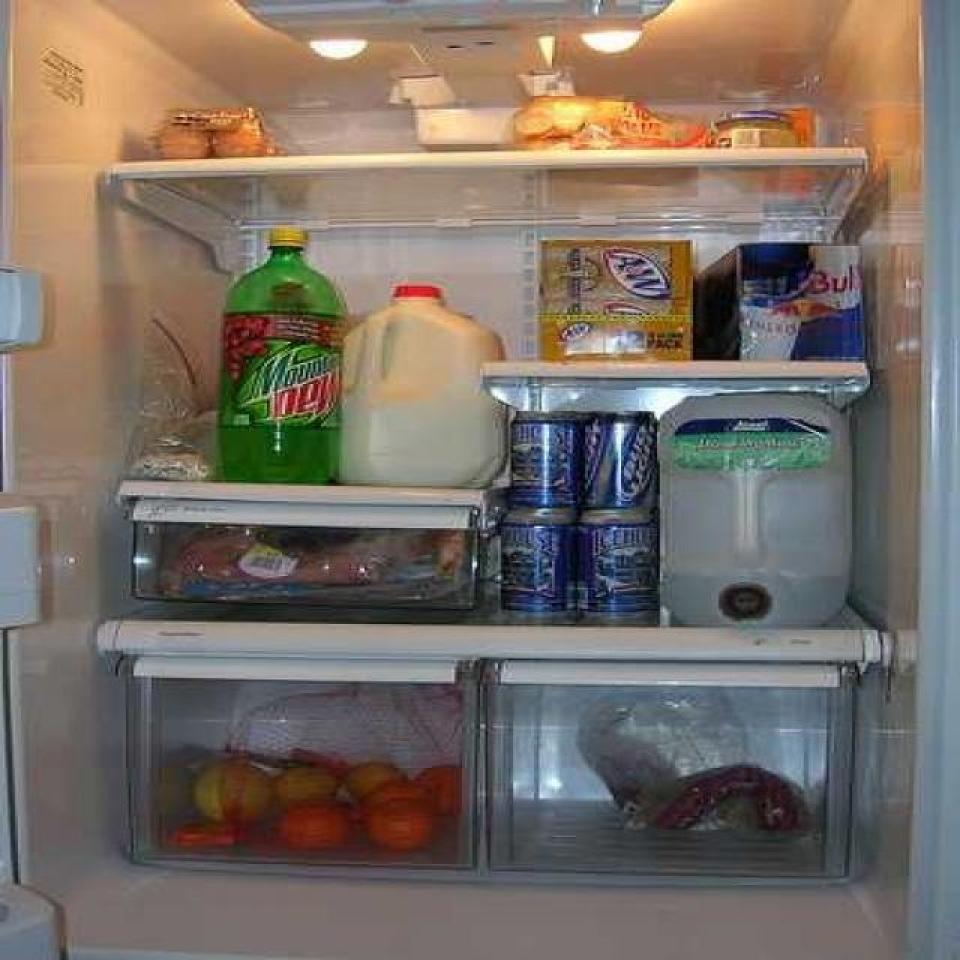Huevos: (156, 105, 276, 161)
Leche: (345, 268, 505, 494)
Limón: (275, 761, 338, 808), (344, 758, 406, 798)
Manzana: (198, 762, 272, 824)
